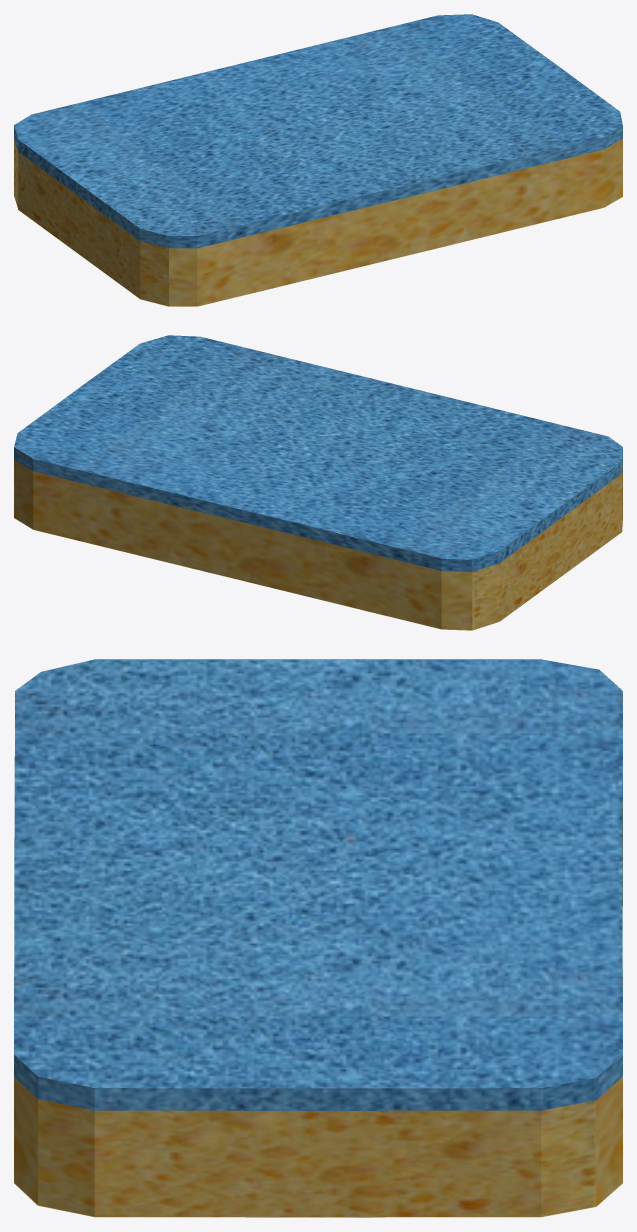
Rendered from eponge.obj.
3 renders of one model, top to bottom at view 1: azimuth 30°, elevation 25°; view 2: azimuth 150°, elevation 25°; view 3: azimuth 270°, elevation 25°, orthographic. The views are drawn at different scales.
Visible parts, largest first — view 1: avant_arriere_1, cote, cote_1, cote_3, cote_2, avant_arriere; view 2: avant_arriere_1, cote, cote_1, cote_3, cote_2, avant_arriere; view 3: avant_arriere_1, cote_1, cote_2, cote, cote_3.
Part boxes in pixels (bbox=[...]): avant_arriere_1: bbox=[14, 14, 622, 235]; cote: bbox=[169, 139, 622, 306]; cote_1: bbox=[14, 138, 168, 306]; cote_3: bbox=[169, 14, 622, 248]; cote_2: bbox=[14, 126, 168, 248]; avant_arriere: bbox=[19, 197, 621, 306]; avant_arriere_1: bbox=[14, 335, 622, 559]; cote: bbox=[14, 460, 472, 630]; cote_1: bbox=[472, 462, 622, 630]; cote_3: bbox=[14, 335, 472, 571]; cote_2: bbox=[472, 450, 622, 571]; avant_arriere: bbox=[14, 518, 621, 630]; avant_arriere_1: bbox=[14, 659, 622, 1088]; cote_1: bbox=[38, 1099, 596, 1216]; cote_2: bbox=[38, 659, 596, 1110]; cote: bbox=[14, 800, 622, 1205]; cote_3: bbox=[14, 672, 622, 1099].
Size of the model in its own units: 10 by 1.4 by 6.
Materials: 2 (2 with a texture image).
